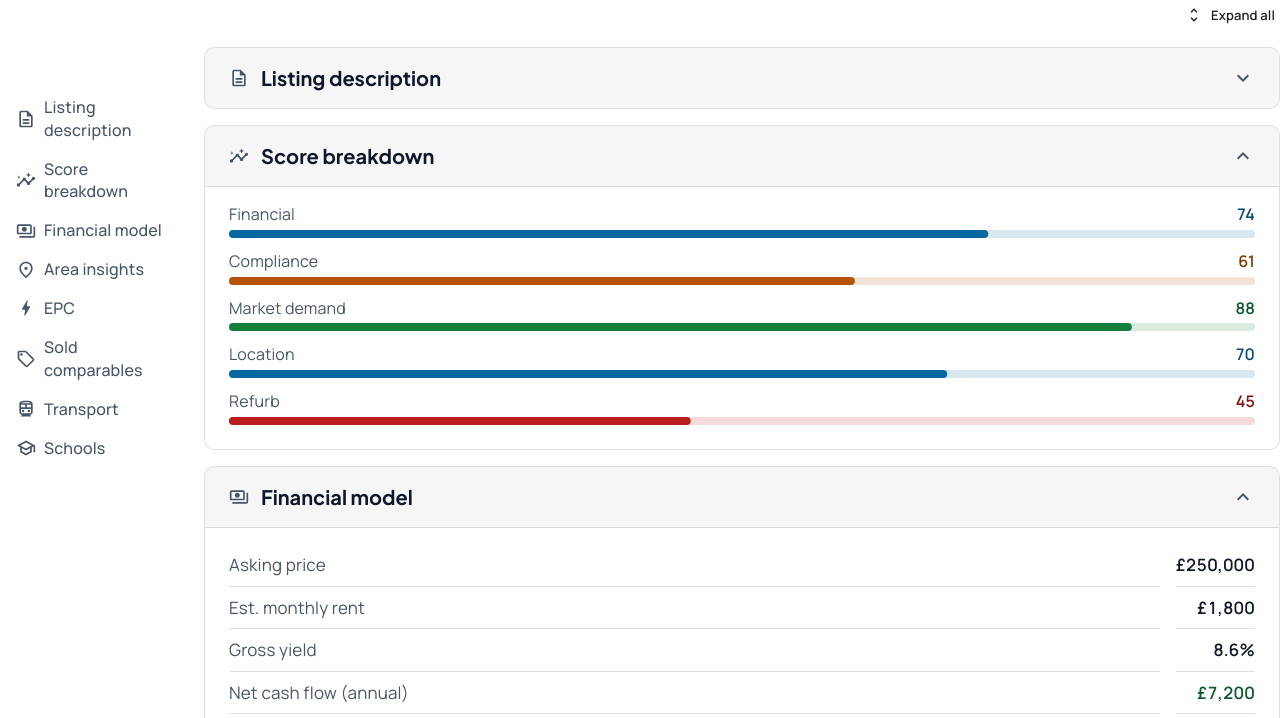
Test: DealReport › opens a collapsed section chosen from the nav
Click the link "EPC". click: (46,308)
box: [16,297,75,319]
(page scrolled)
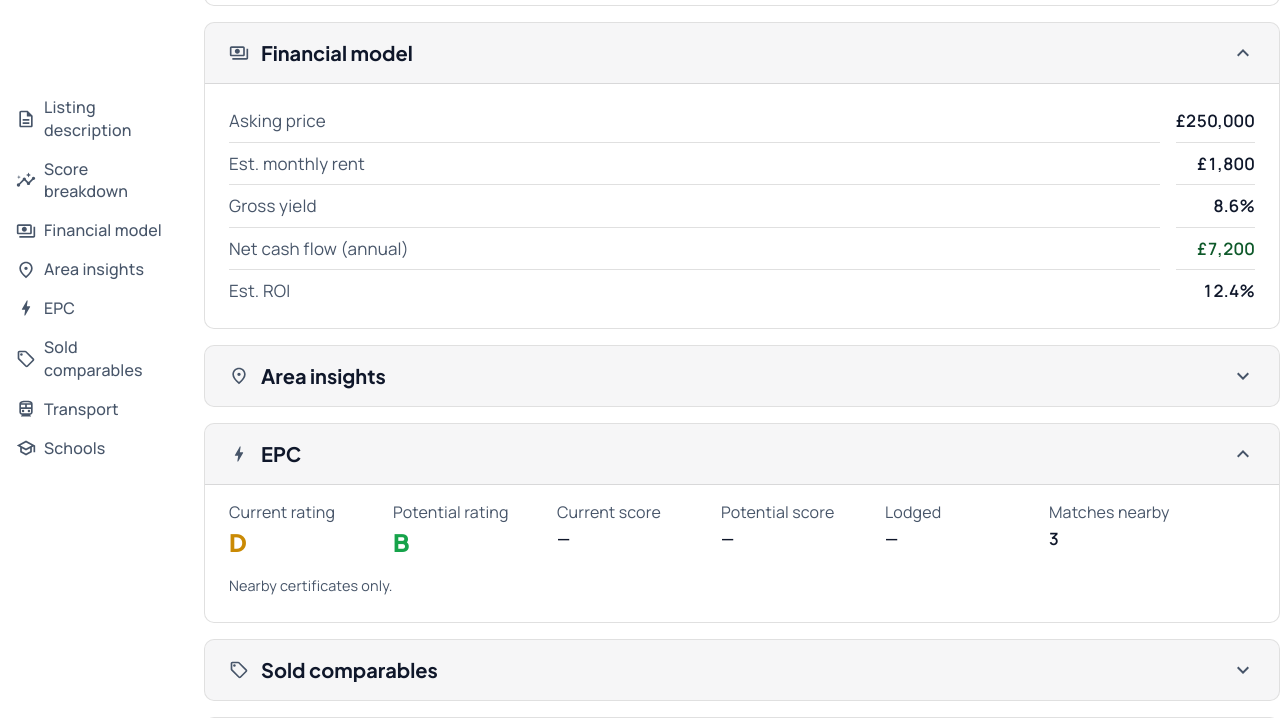
Expected: the button "EPC" is expanded, [205,424,1279,485]
